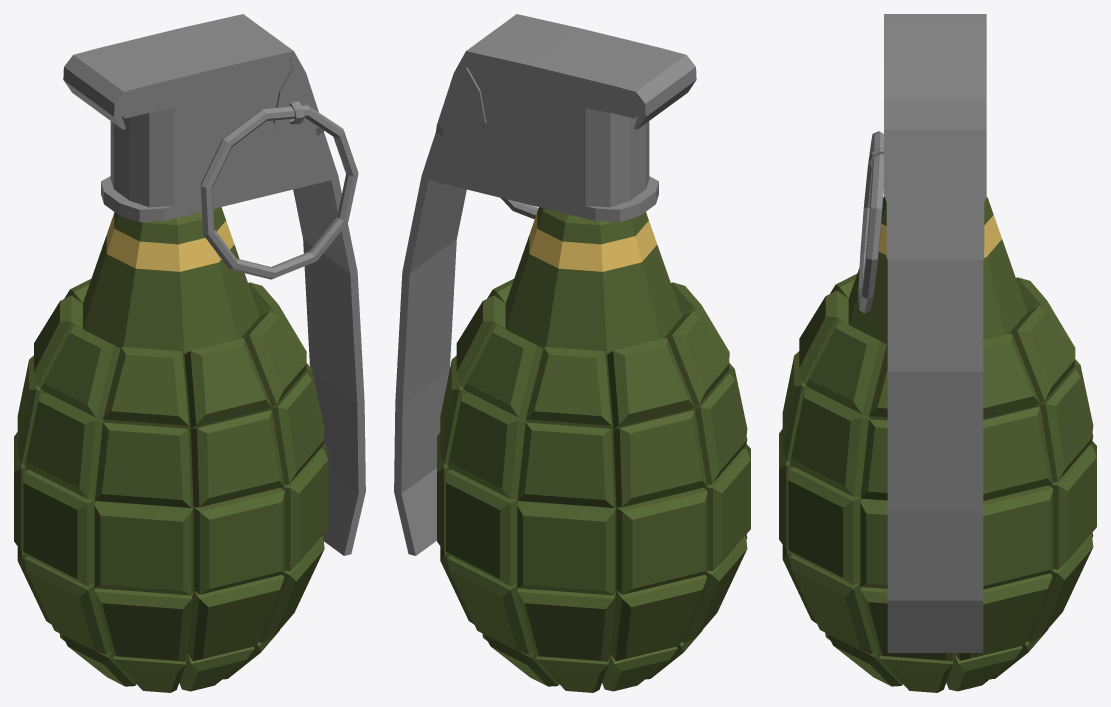
File: Grenade.gltf
The picture shows the model from 3 angles, left to right: view 1: azimuth 30°, elevation 25°; view 2: azimuth 150°, elevation 25°; view 3: azimuth 270°, elevation 25°; orthographic projection.
Parts seen in each view (by area): view 1: Grenade, Pin; view 2: Grenade; view 3: Grenade, Pin.
Boxes of the visible parts, x1=… form: Grenade: x1=14, y1=14, x2=365, y2=692; Pin: x1=200, y1=105, x2=358, y2=279; Grenade: x1=394, y1=14, x2=750, y2=692; Grenade: x1=779, y1=14, x2=1096, y2=692; Pin: x1=858, y1=131, x2=883, y2=313.
Bounding box in the file's own units: 0.3295 × 0.6141 × 0.2874.
